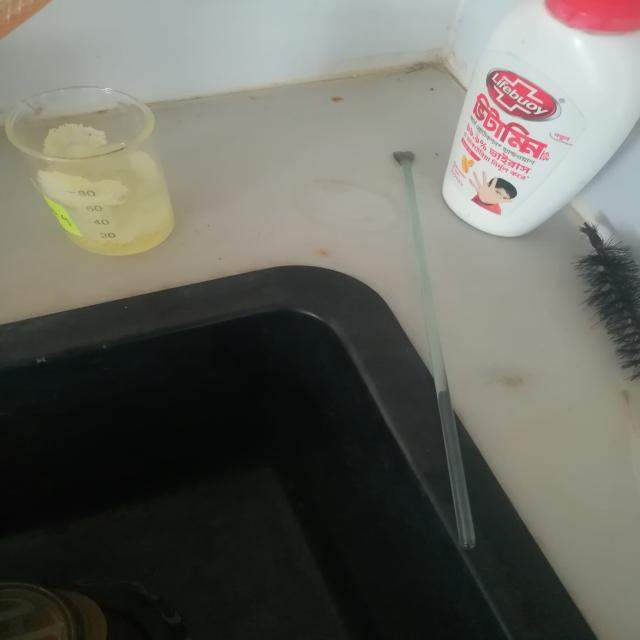Glass_Rod: (342, 118, 535, 580)
